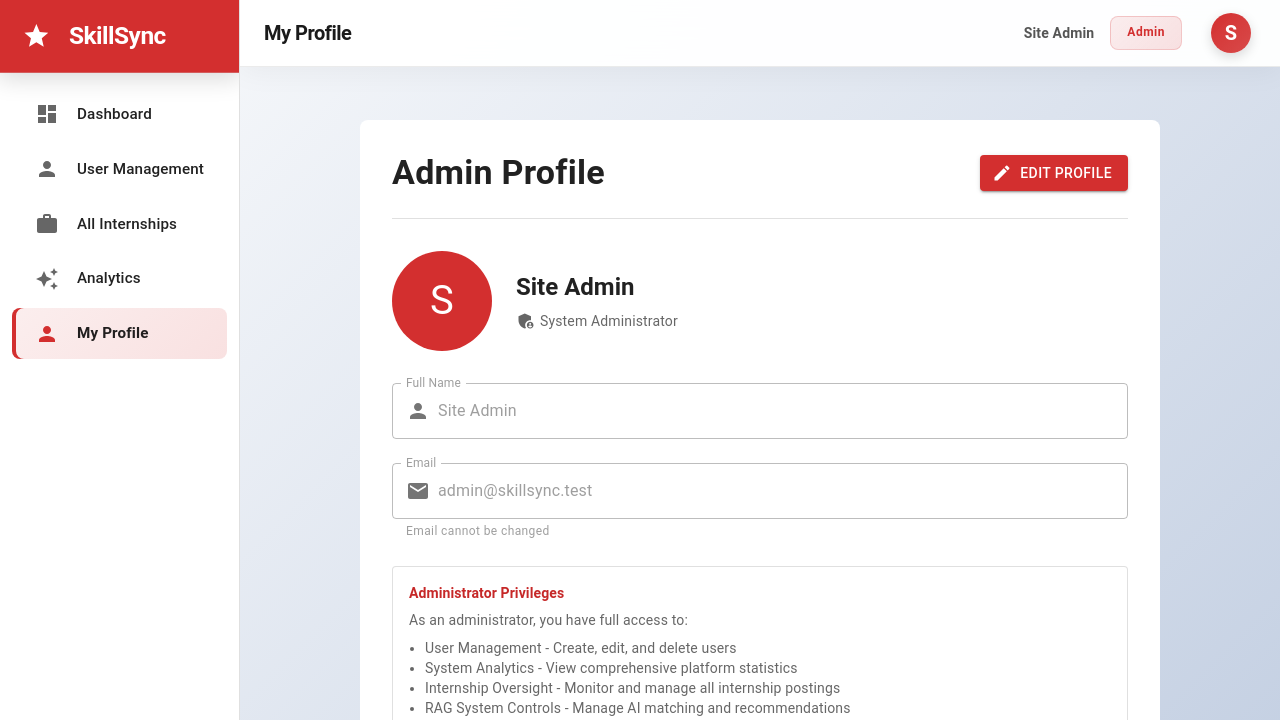
Test case: a rejected save keeps the form open
The image size is (1280, 720).
Click the button "Edit Profile" at (1054, 173), box [980,155,1128,191]
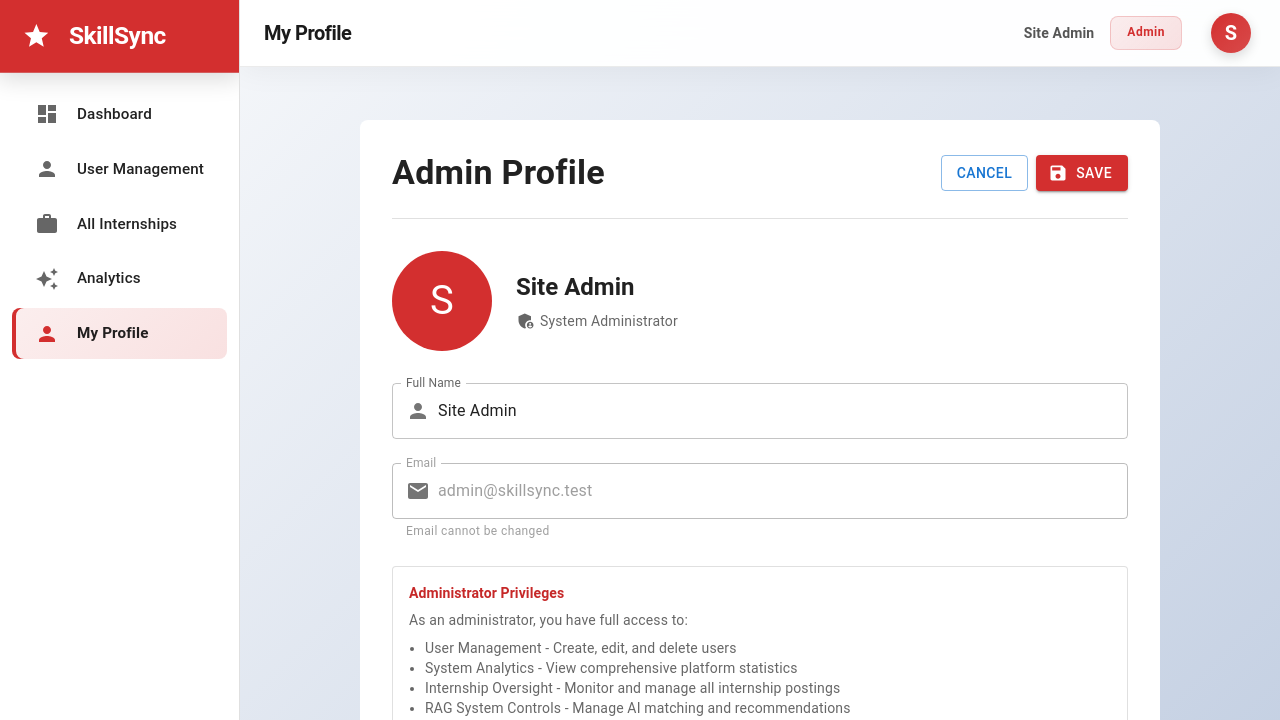
Click the button "Save" at (1082, 173), box [1036,155,1128,191]
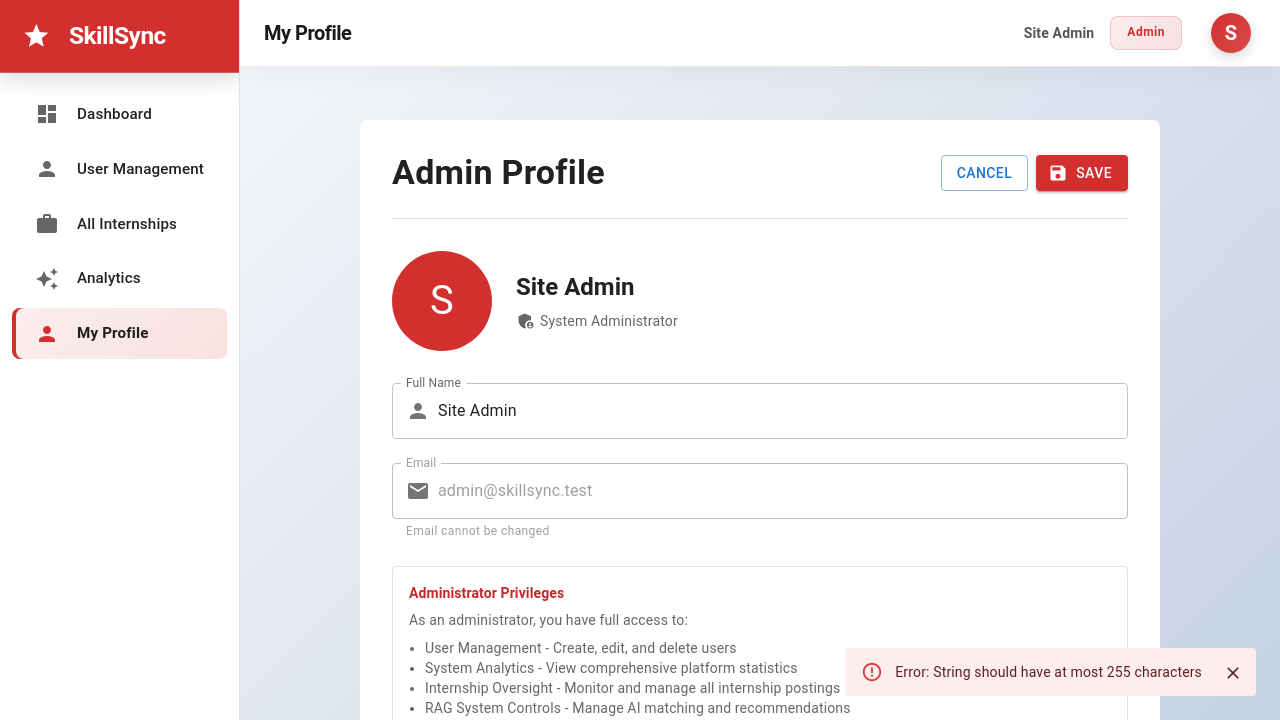
Result: the field labelled "Full Name" is enabled at [438,383,1128,439]
Result: the text "Error: String should have at most 255 characters" is shown at [895,664,1202,680]
